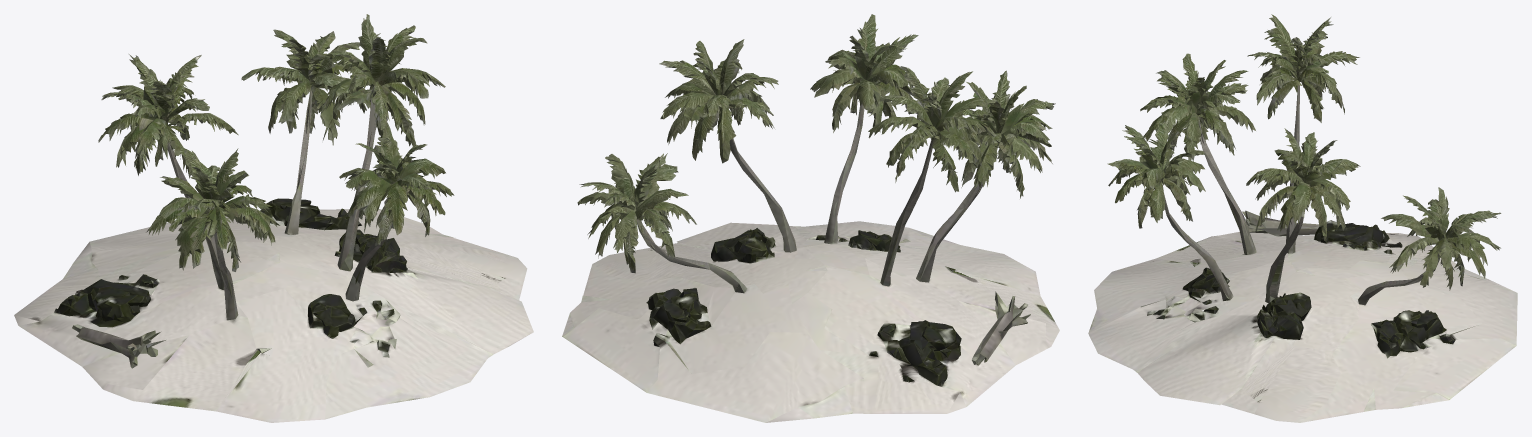
The model's file is palms.glb.
The picture shows the model from 3 angles, left to right: view 1: azimuth 30°, elevation 25°; view 2: azimuth 150°, elevation 25°; view 3: azimuth 270°, elevation 25°; orthographic projection. The views are drawn at different scales.
Parts seen in each view (by area): view 1: Mesh_0; view 2: Mesh_0; view 3: Mesh_0.
Part boxes in pixels (<box>): Mesh_0: <box>14,14,533,422</box>; Mesh_0: <box>562,14,1059,422</box>; Mesh_0: <box>1088,14,1517,422</box>.
Bounding box in the file's own units: 1.9 × 1.15 × 1.81.
Materials: 1 (1 with a texture image).
